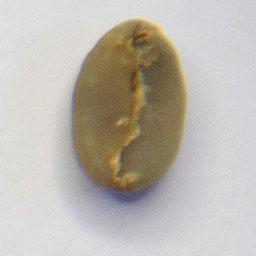premium: (68, 14, 190, 196)
